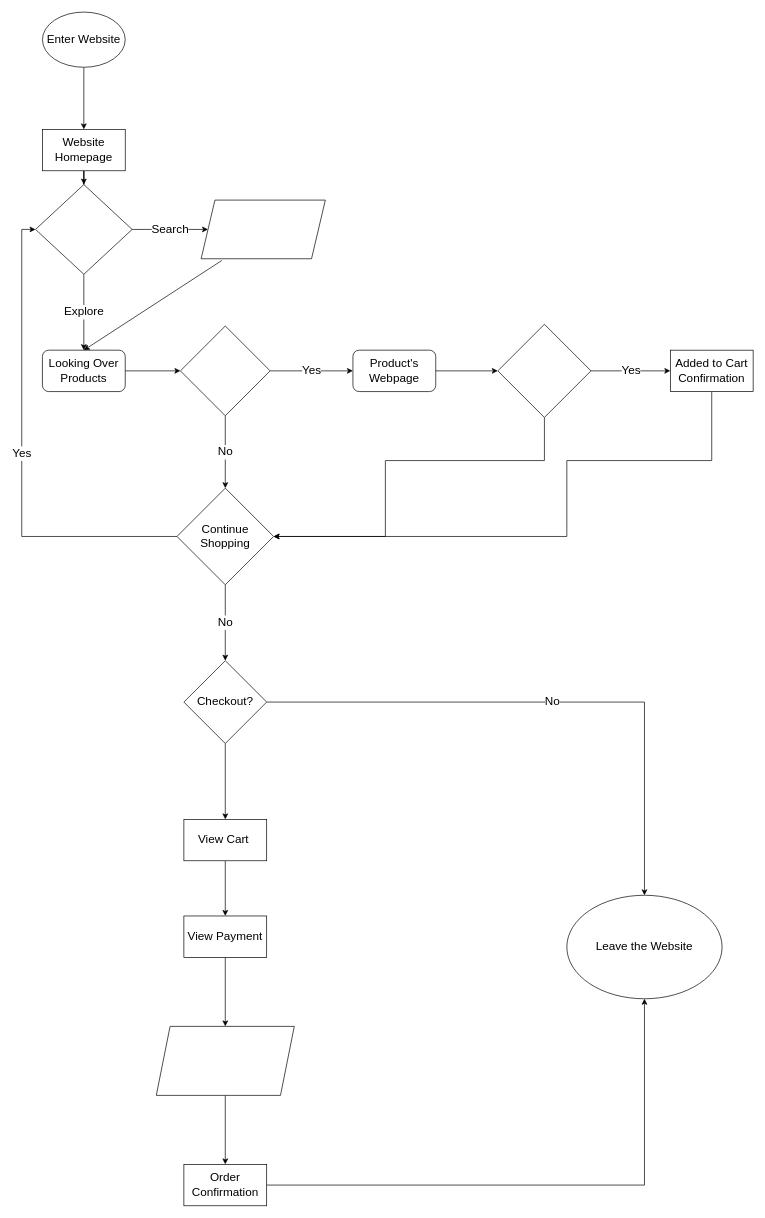
The diagram is 765 pixels wide and 1218 high, and some of its shapes have lost their labels. Each missing label, with the centre of its shape:
Add Item to Cart: pixel 544 370
Explore Or search: pixel 83 229
Input Payment Info: pixel 225 1060
User puts input into search bar: pixel 262 229
View Specific Product: pixel 225 370
